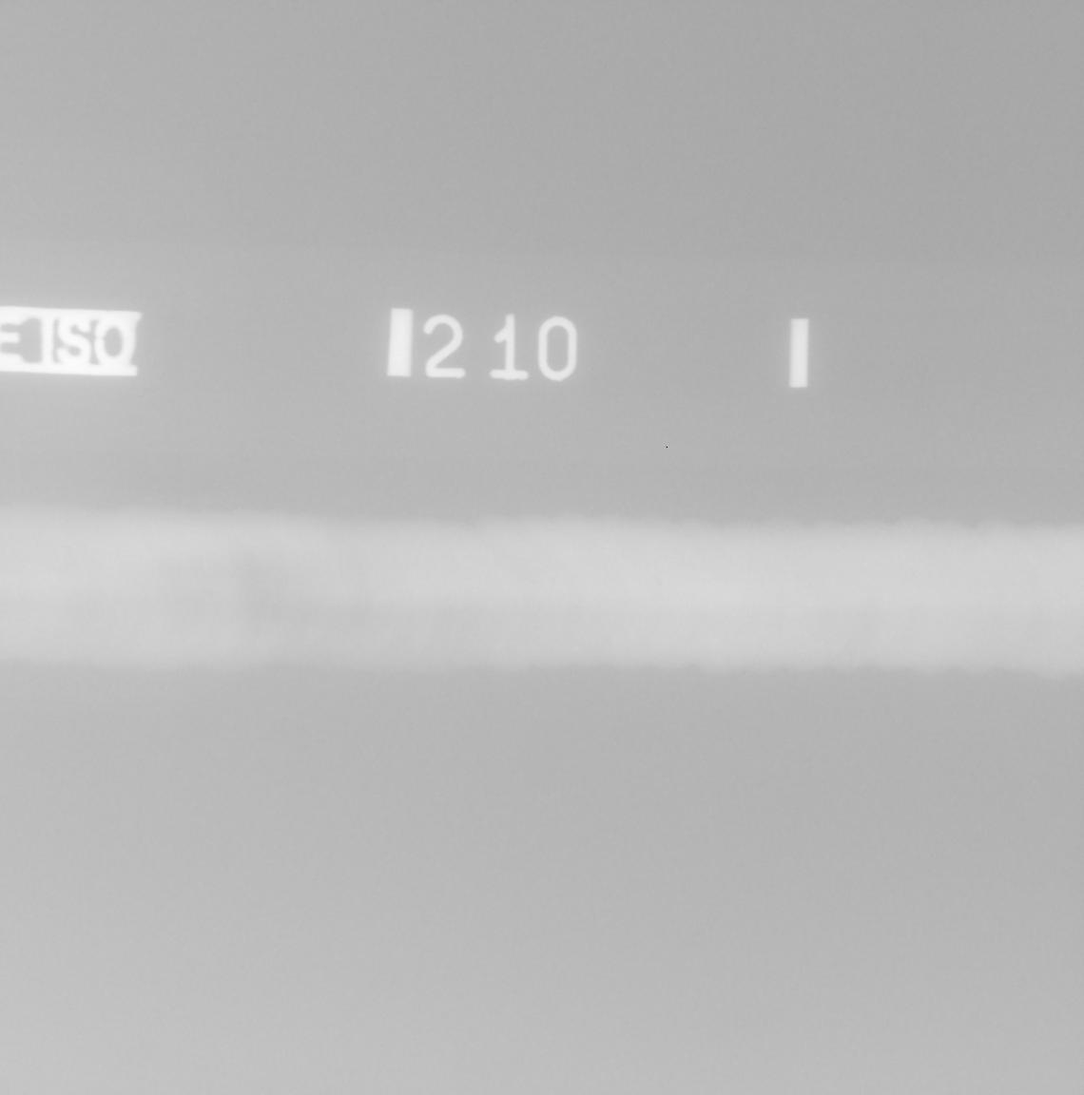Pore/Porosity: (655, 579, 664, 588)
